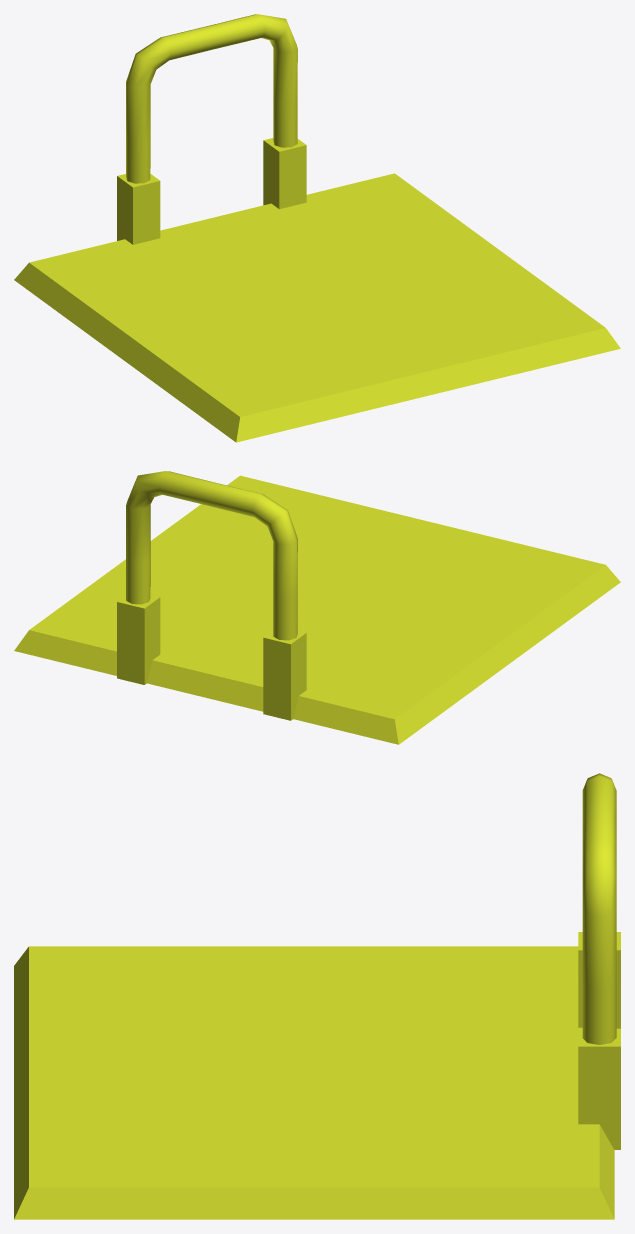
Rendered from ddr_trap.fbx.
The picture shows the model from 3 angles, top to bottom: view 1: azimuth 30°, elevation 25°; view 2: azimuth 150°, elevation 25°; view 3: azimuth 270°, elevation 25°; orthographic projection. The views are drawn at different scales.
Visible parts, largest first — view 1: ddr_platform; view 2: ddr_platform; view 3: ddr_platform.
Boxes of the visible parts, x1,y1,x2,y2 form: ddr_platform: (14,14,620,442); ddr_platform: (14,471,620,744); ddr_platform: (14,773,620,1219).
Bounding box in the file's own units: 2.1 × 1.1 × 2.13.
